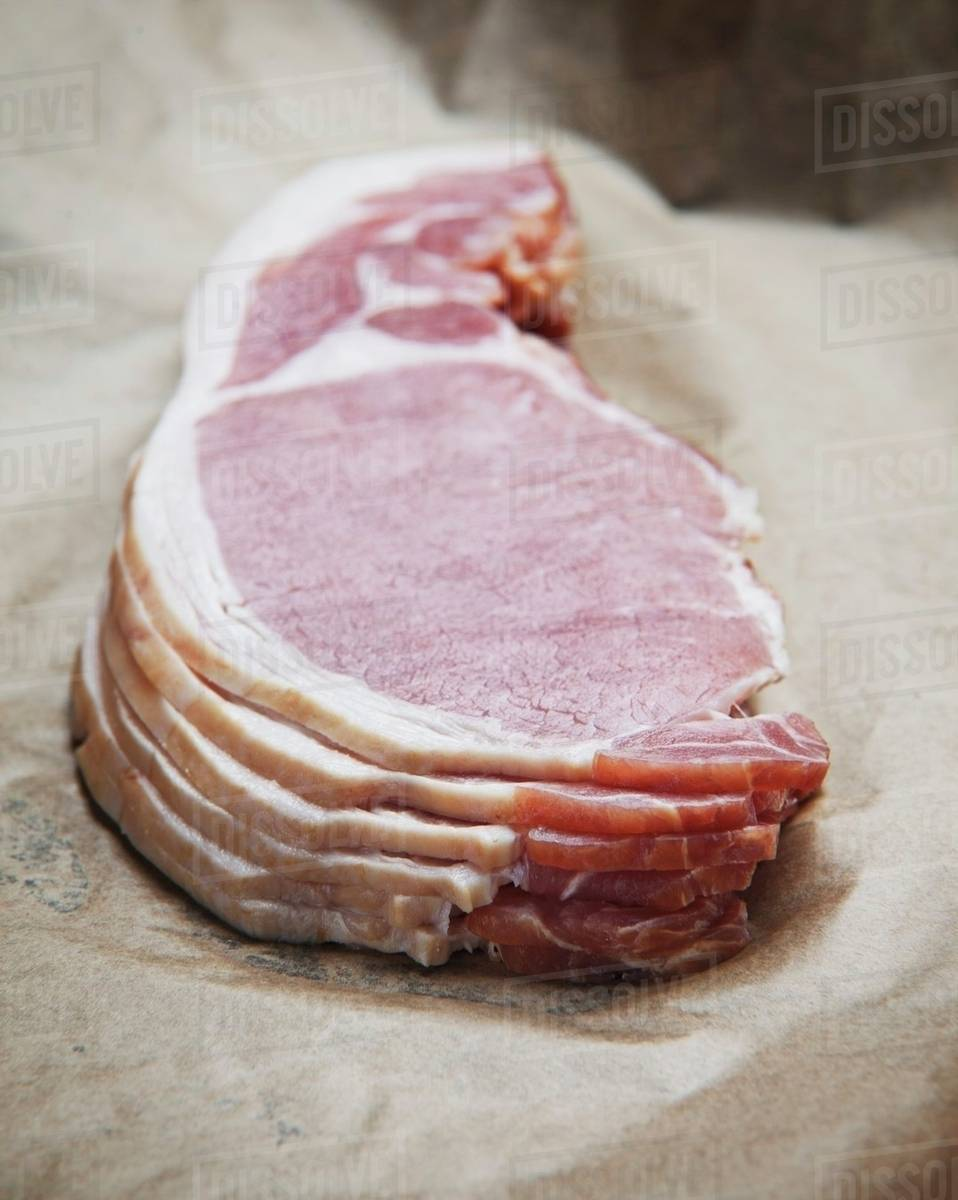bacon: (101, 101, 845, 1072)
